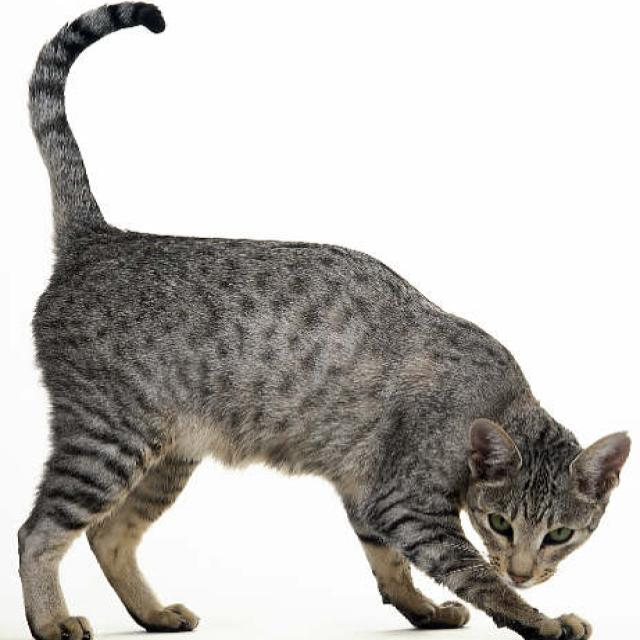Egyptian Mau: (14, 0, 636, 640)
